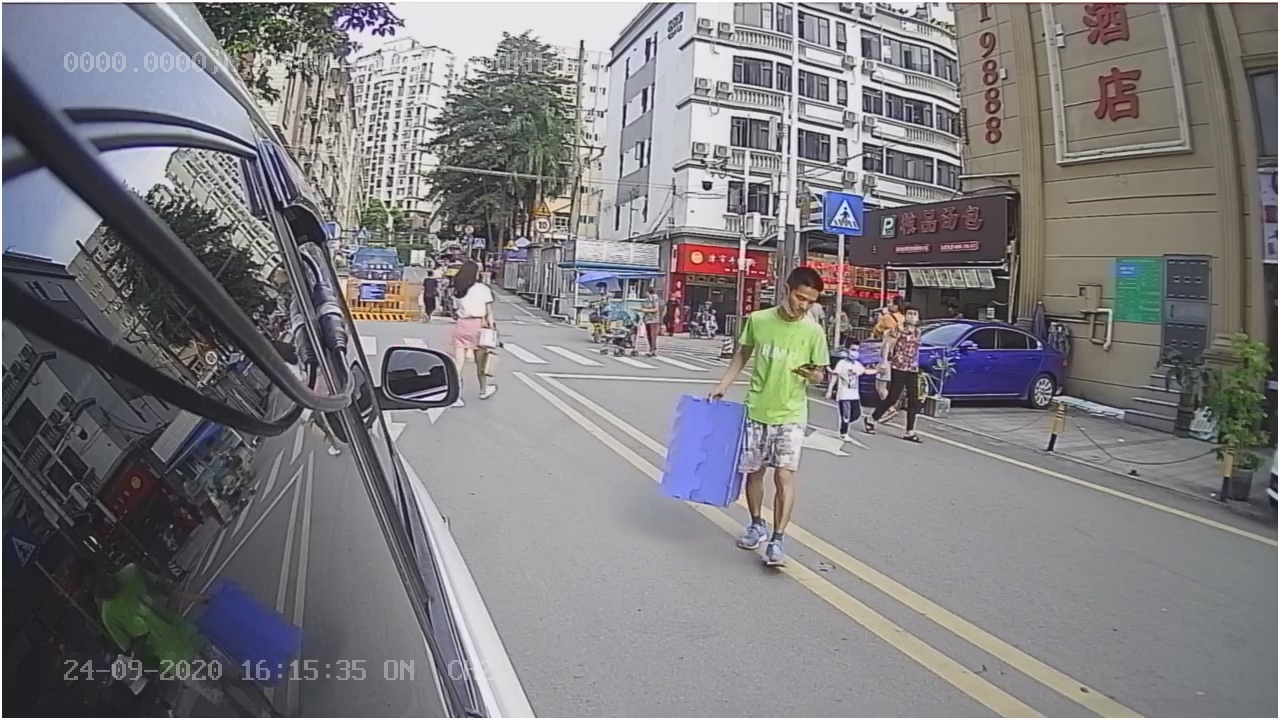person: (686, 265, 844, 577)
